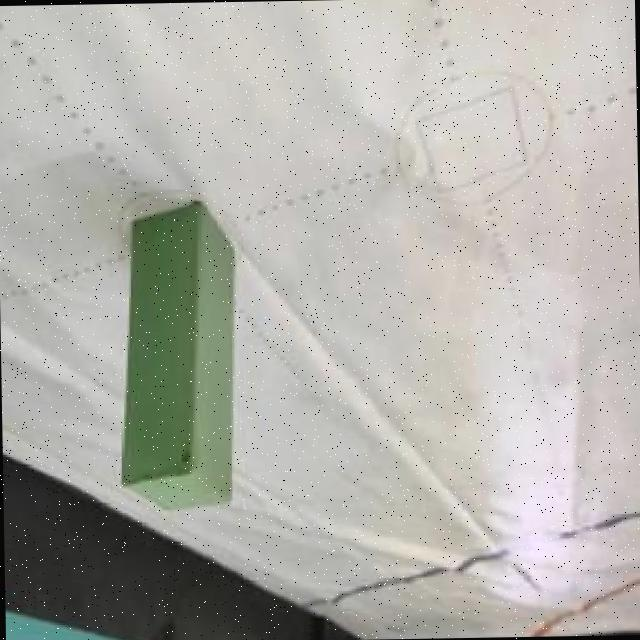greenbox: (112, 199, 238, 515)
